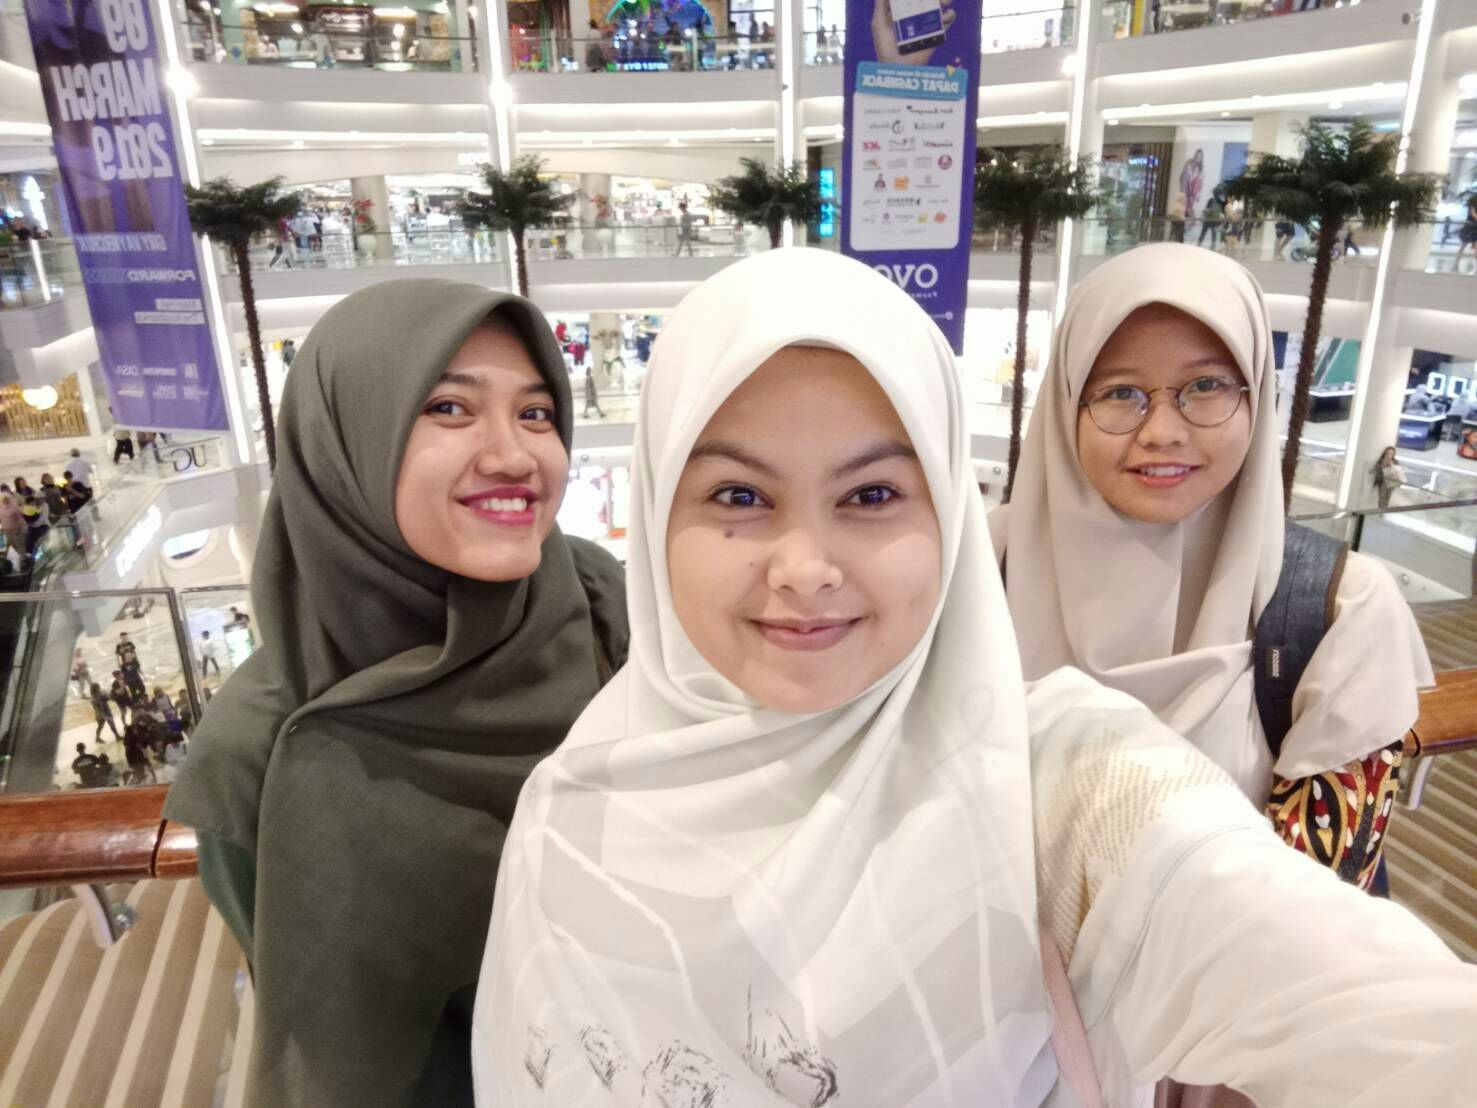face: (624, 365, 983, 724), (1064, 322, 1260, 518)
